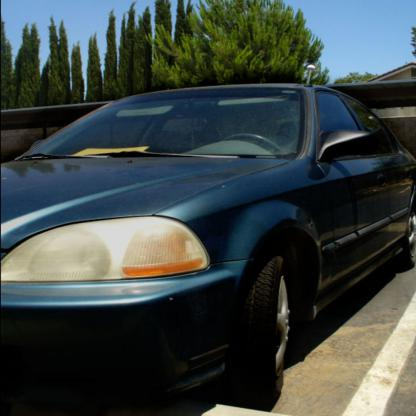Car: (0, 64, 415, 415)
